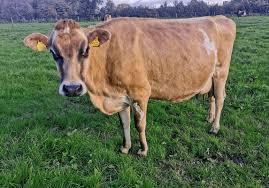cow: (24, 15, 237, 156)
